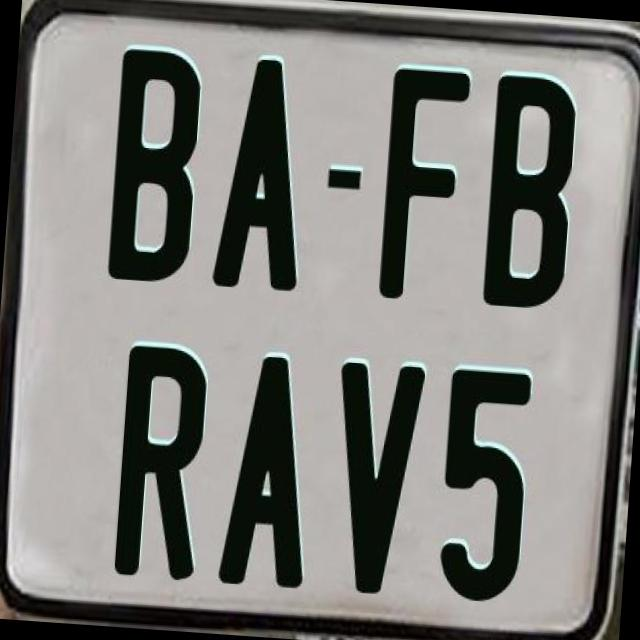5: (434, 368, 534, 613)
A: (218, 351, 324, 594), (210, 54, 312, 288)
B: (478, 73, 580, 314), (104, 43, 204, 280)
F: (376, 67, 470, 312)
V: (325, 358, 428, 594)
